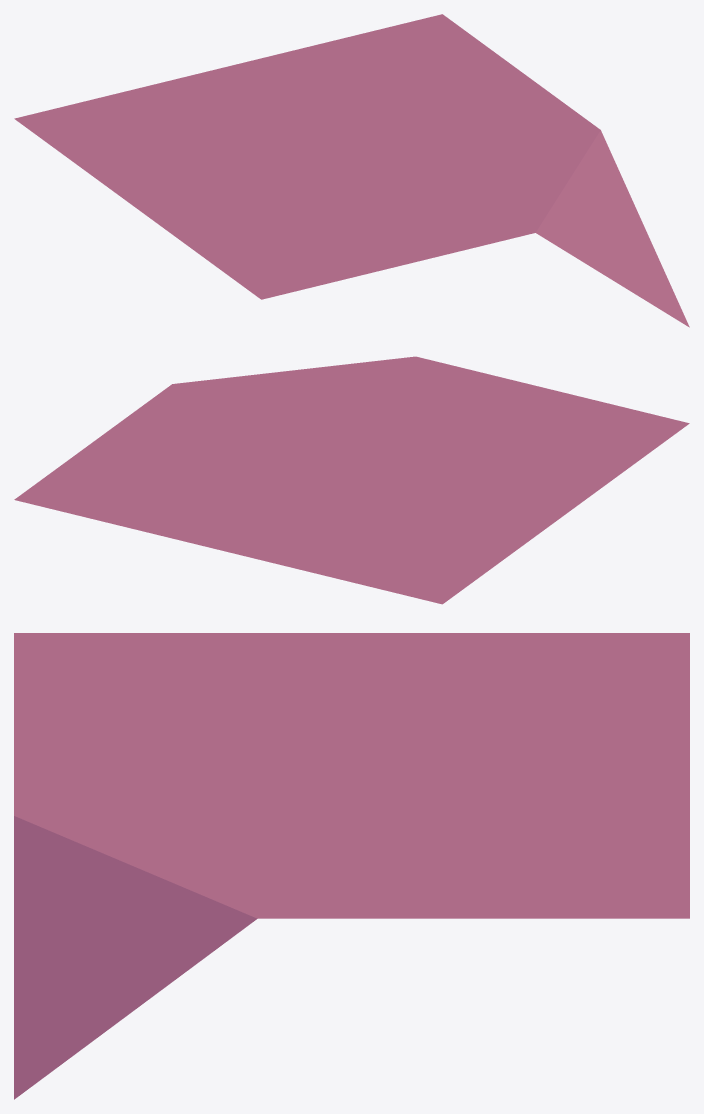
Rendered from Module_Diagonal_Joint_Mesh_v01.fbx.
The picture shows the model from 3 angles, top to bottom: view 1: azimuth 30°, elevation 25°; view 2: azimuth 150°, elevation 25°; view 3: azimuth 270°, elevation 25°; orthographic projection. The views are drawn at different scales.
Parts seen in each view (by area): view 1: Module_Diagonal_Joint_Mesh_v01; view 2: Module_Diagonal_Joint_Mesh_v01; view 3: Module_Diagonal_Joint_Mesh_v01.
Part boxes in pixels (x1,y1,x2,y2): Module_Diagonal_Joint_Mesh_v01: (14, 14, 689, 327); Module_Diagonal_Joint_Mesh_v01: (14, 356, 689, 604); Module_Diagonal_Joint_Mesh_v01: (14, 633, 689, 1099).
Bounding box in the file's own units: 200 × 59.14 × 200.
